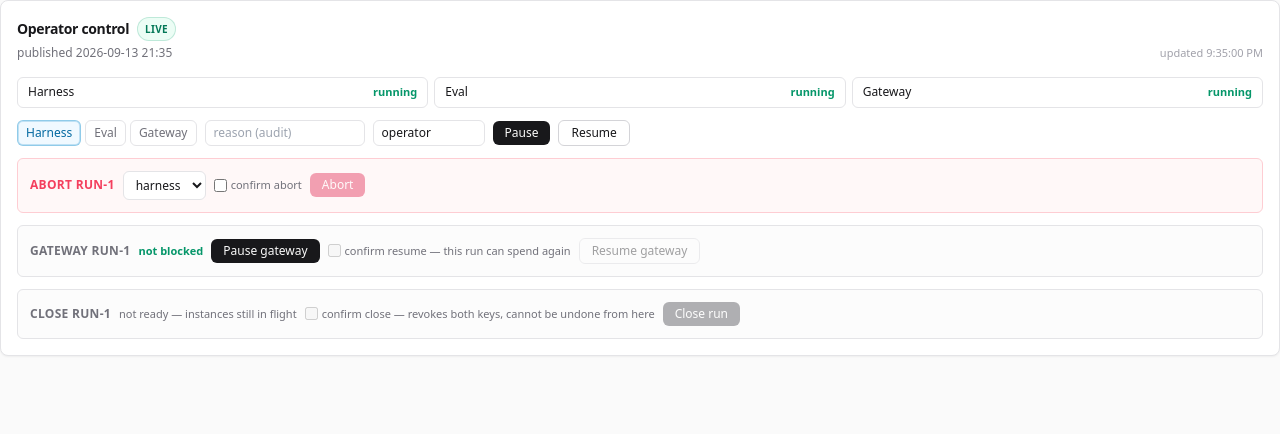
Test: ControlPanel — phase 2 §5 correctness rules › abort does not flip to "aborted" on a 200 with settled=false
The width and height of the screenshot is (1280, 434).
What coordinates should you click on to do the following:
click the checkbox labelled "confirm abort"
I would click on:
 (220, 185)
Its box is left=214, top=178, right=227, bottom=192.
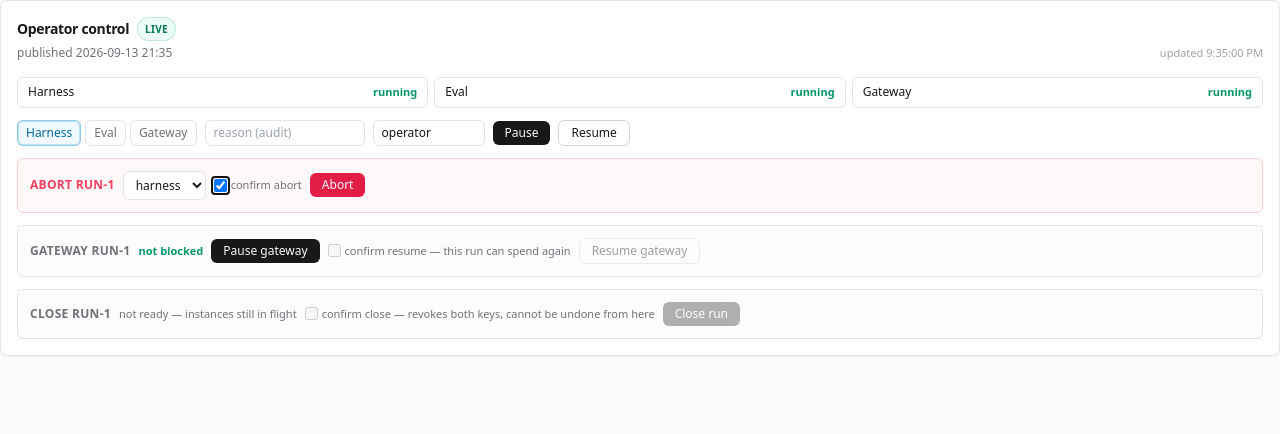
What coordinates should you click on to do the following:
click the button "Abort"
I would click on:
 (338, 185)
Its box is left=310, top=173, right=365, bottom=197.
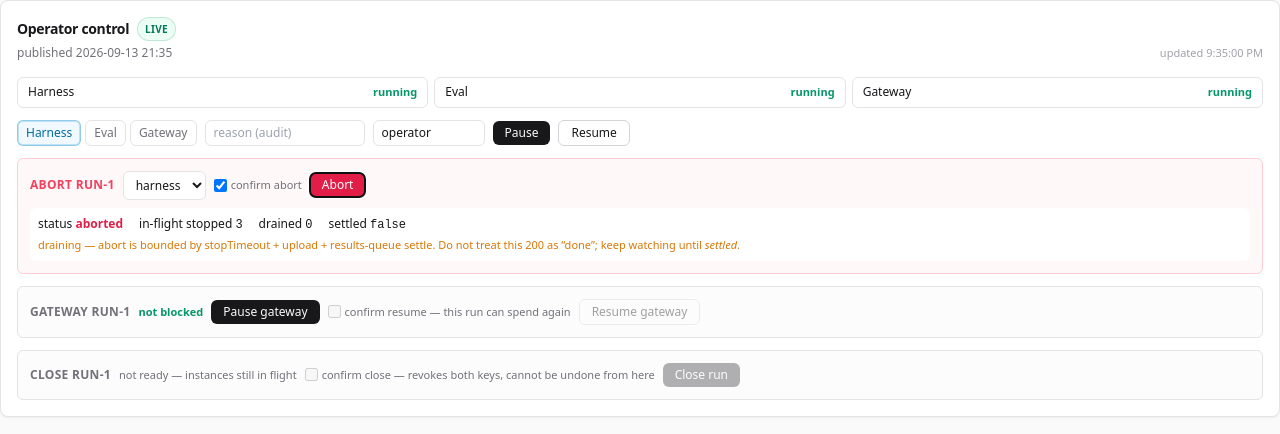
expect the text "do not treat this 200 as" is shown: met, box left=38, top=236, right=705, bottom=252
